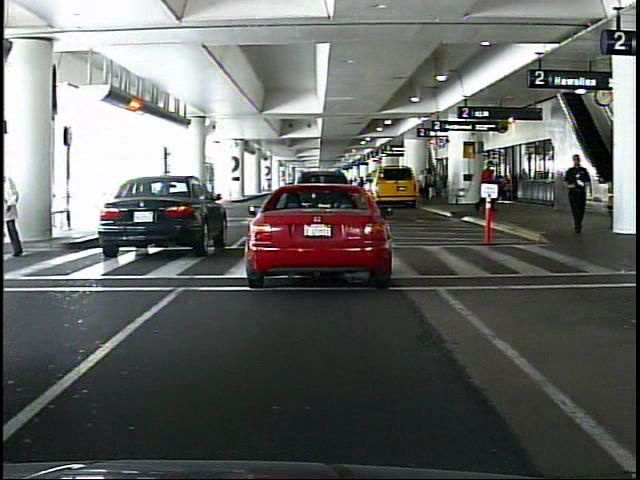person: (2, 170, 30, 258), (563, 151, 591, 237), (476, 161, 499, 215), (417, 166, 430, 202)
